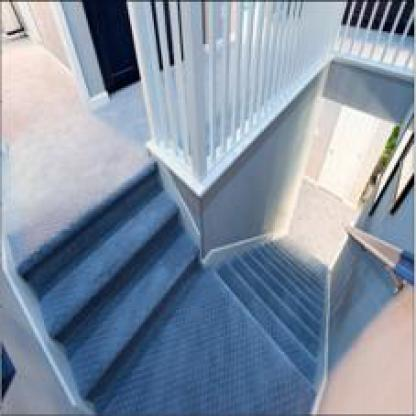stair_down: (209, 207, 365, 383)
